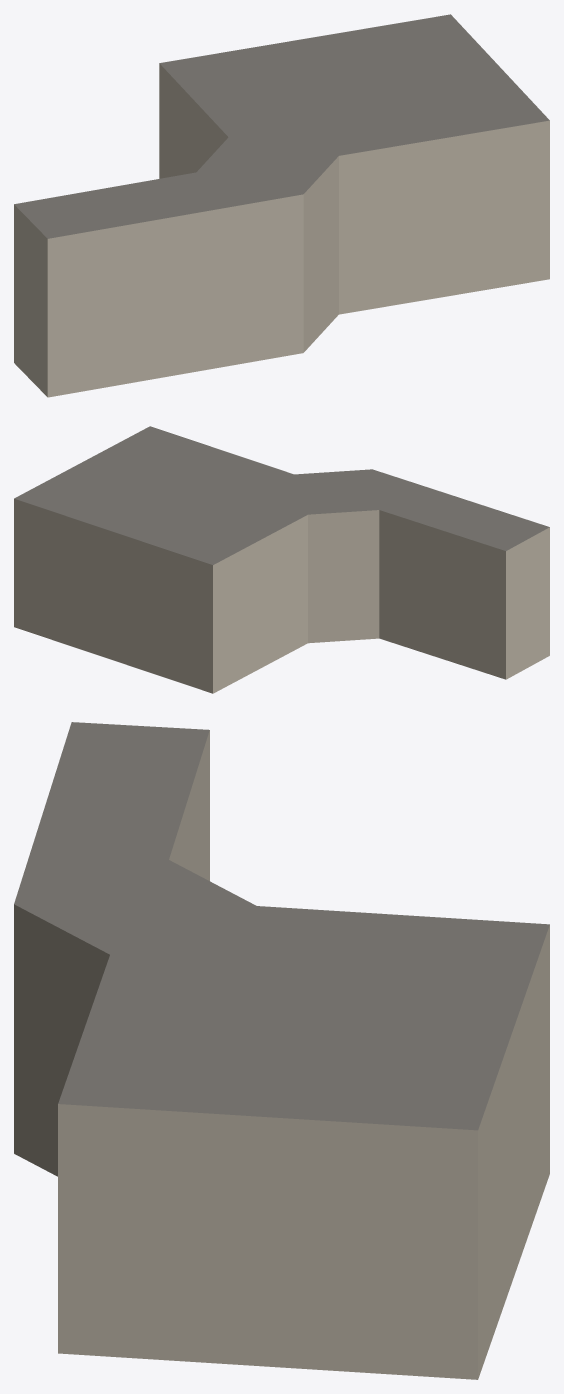
3 views of the same model, one above another, from view 1: azimuth 30°, elevation 25°; view 2: azimuth 150°, elevation 25°; view 3: azimuth 270°, elevation 25° (orthographic). The views are drawn at different scales.
Visible parts, largest first — view 1: HP-w859488854; view 2: HP-w859488854; view 3: HP-w859488854.
Part boxes in pixels (x1,y1,x2,y2): HP-w859488854: [14, 14, 549, 397]; HP-w859488854: [14, 426, 549, 693]; HP-w859488854: [14, 722, 549, 1379].
Size of the model in its own units: 63.18 by 18 by 35.05.
